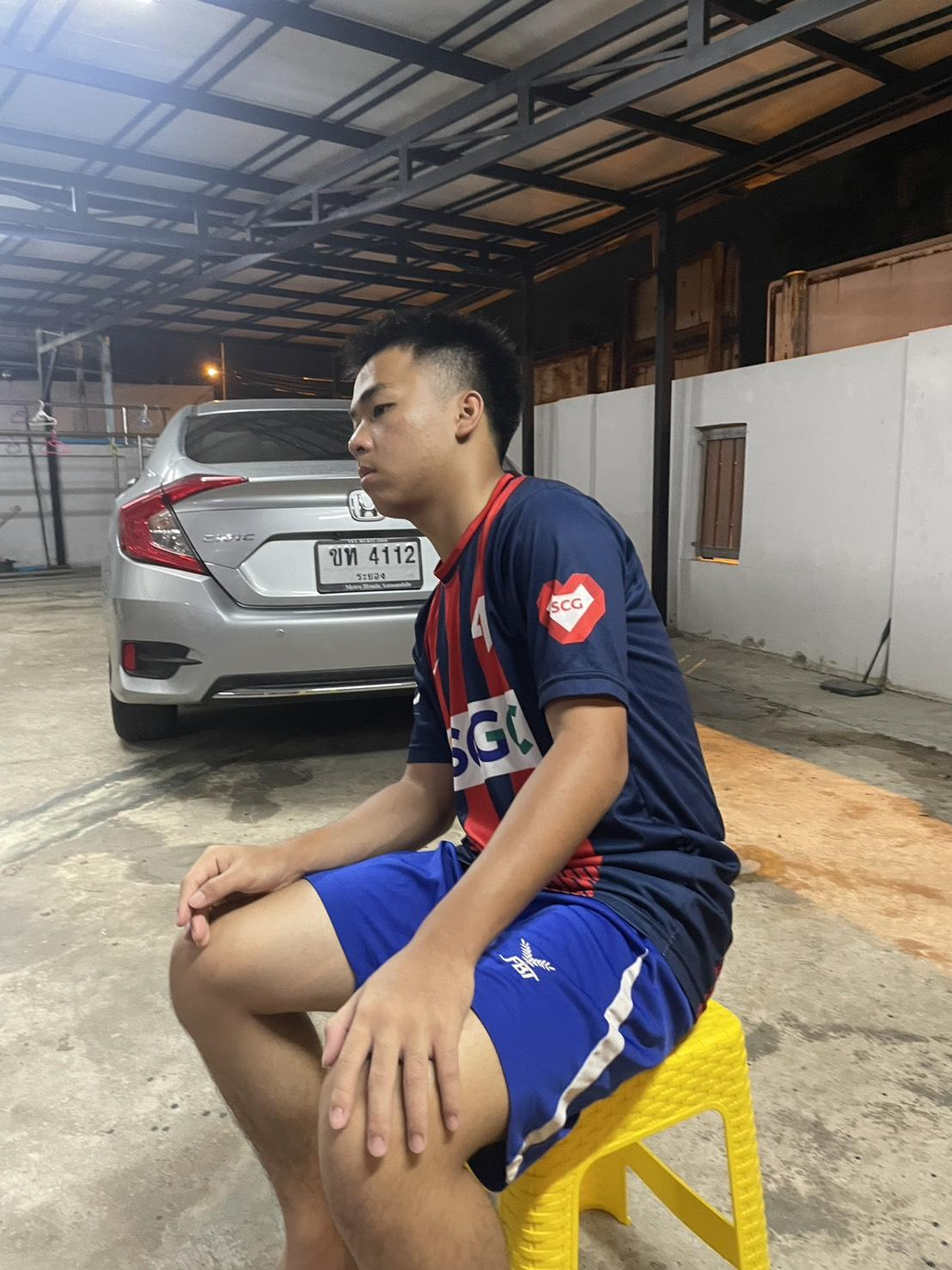BadPosture: (351, 314, 738, 1007)
